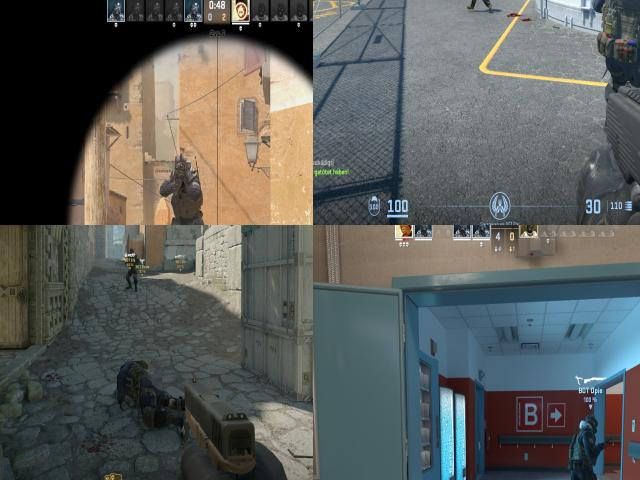CT: (603, 0, 640, 113), (168, 153, 203, 225), (575, 412, 600, 480), (125, 244, 140, 287)
CT-Head: (174, 156, 188, 177), (584, 414, 598, 431), (127, 246, 136, 259)
Dead: (114, 344, 180, 433)
T: (471, 0, 487, 13)
